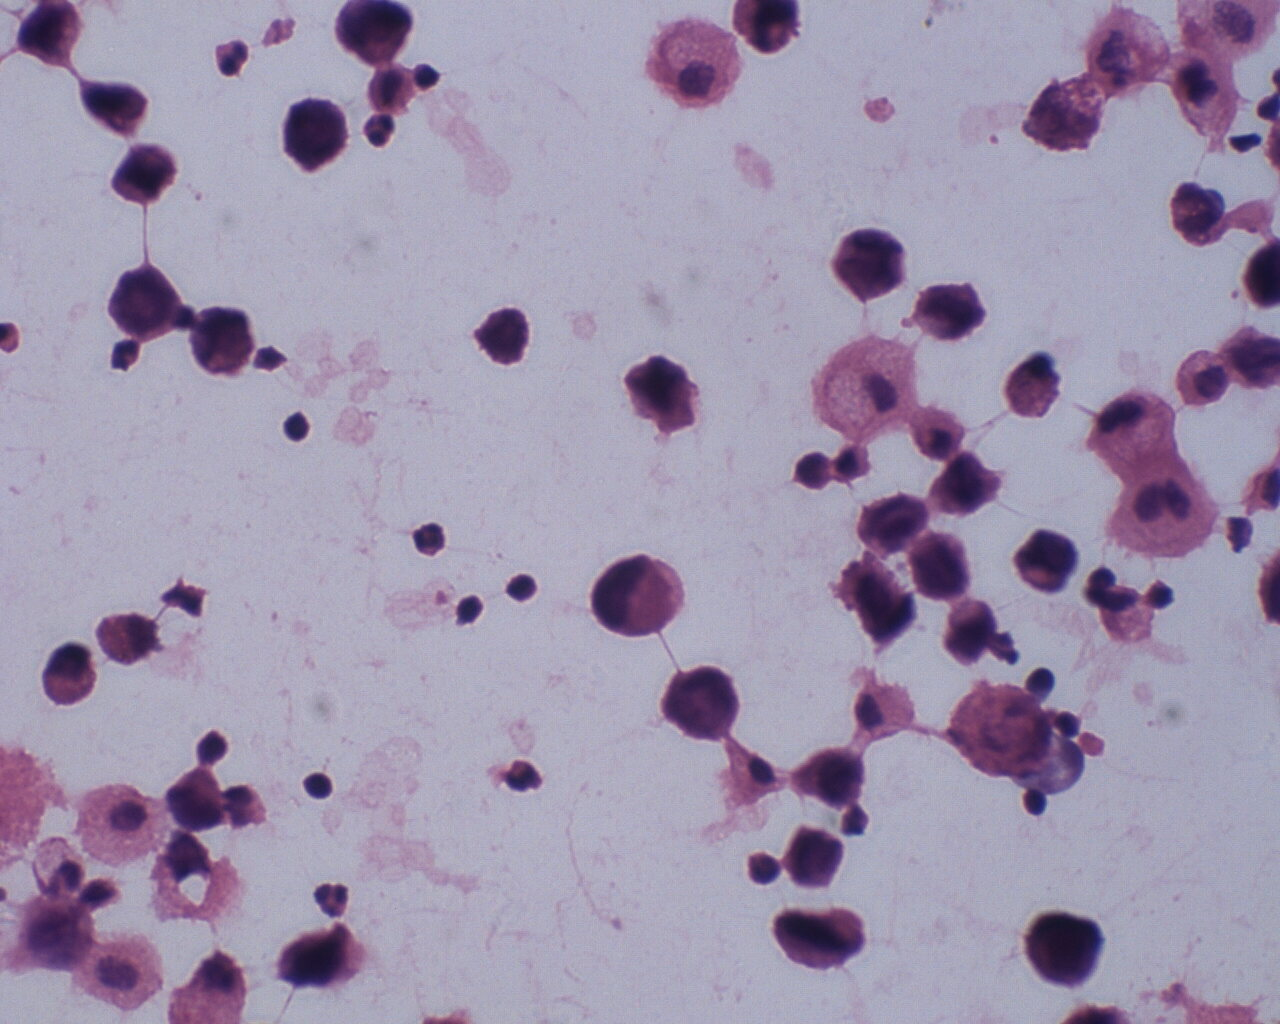ab: (1021, 904, 1108, 990), (665, 658, 746, 745), (827, 219, 906, 304), (110, 254, 185, 339), (275, 88, 347, 174), (185, 295, 257, 380), (904, 528, 979, 603), (932, 447, 1005, 520), (793, 742, 872, 809), (111, 142, 184, 209), (1013, 520, 1075, 596), (163, 766, 233, 833)
histo: (811, 332, 921, 438), (644, 13, 746, 112), (594, 552, 691, 639), (854, 673, 928, 743)
lymph: (300, 766, 338, 802), (281, 404, 312, 446)
meso: (1173, 344, 1229, 410)
neutro: (411, 517, 450, 565), (315, 875, 356, 916)
